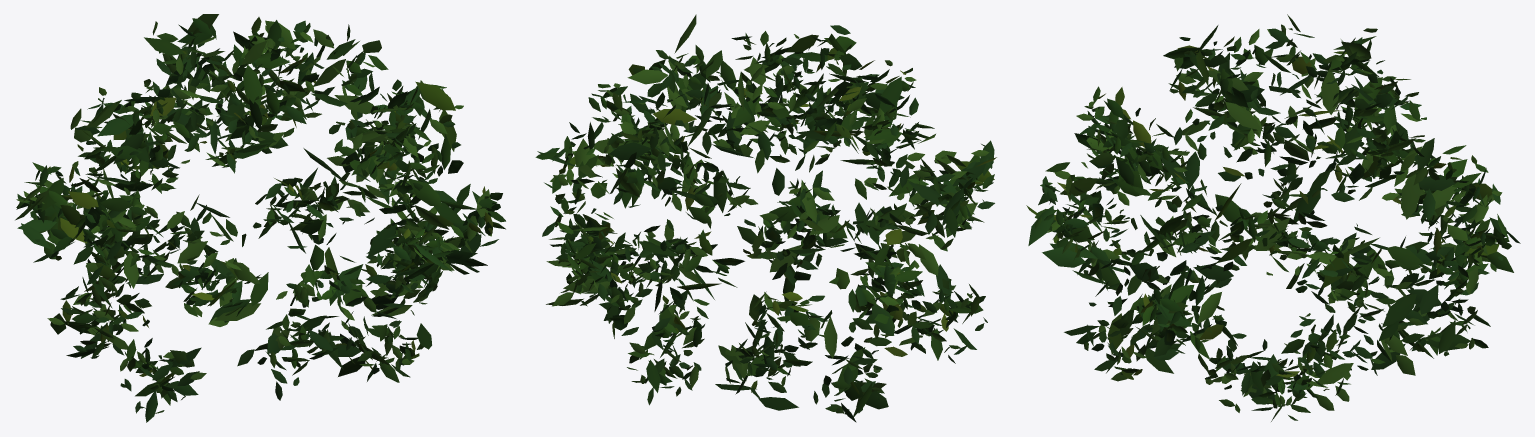
The model's file is tree-foliage.glb.
3 views of the same model, side by side, from view 1: azimuth 30°, elevation 25°; view 2: azimuth 150°, elevation 25°; view 3: azimuth 270°, elevation 25° (orthographic). The views are drawn at different scales.
Visible parts, largest first — view 1: Foliage0, Foliage1; view 2: Foliage0, Foliage1; view 3: Foliage0, Foliage1.
Boxes of the visible parts, left/top/right/bottom form: Foliage0: left=16, top=17, right=505, bottom=413; Foliage1: left=15, top=14, right=505, bottom=422; Foliage0: left=535, top=25, right=996, bottom=422; Foliage1: left=537, top=14, right=994, bottom=418; Foliage0: left=1035, top=14, right=1520, bottom=421; Foliage1: left=1026, top=25, right=1513, bottom=407.
Bounding box in the file's own units: 6.04 × 4.52 × 6.22.
